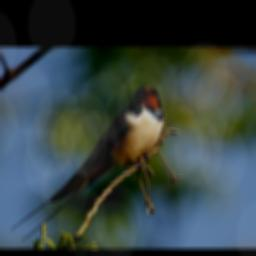Swallow: (10, 85, 163, 241)
